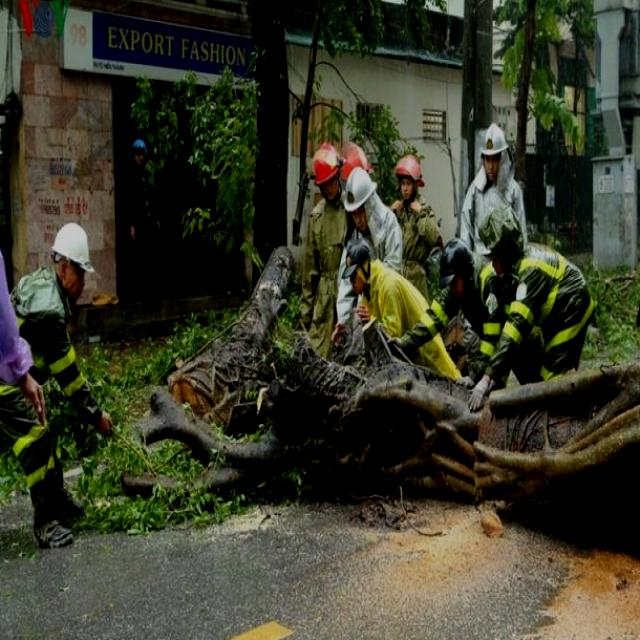fallen_object: (138, 227, 640, 570)
